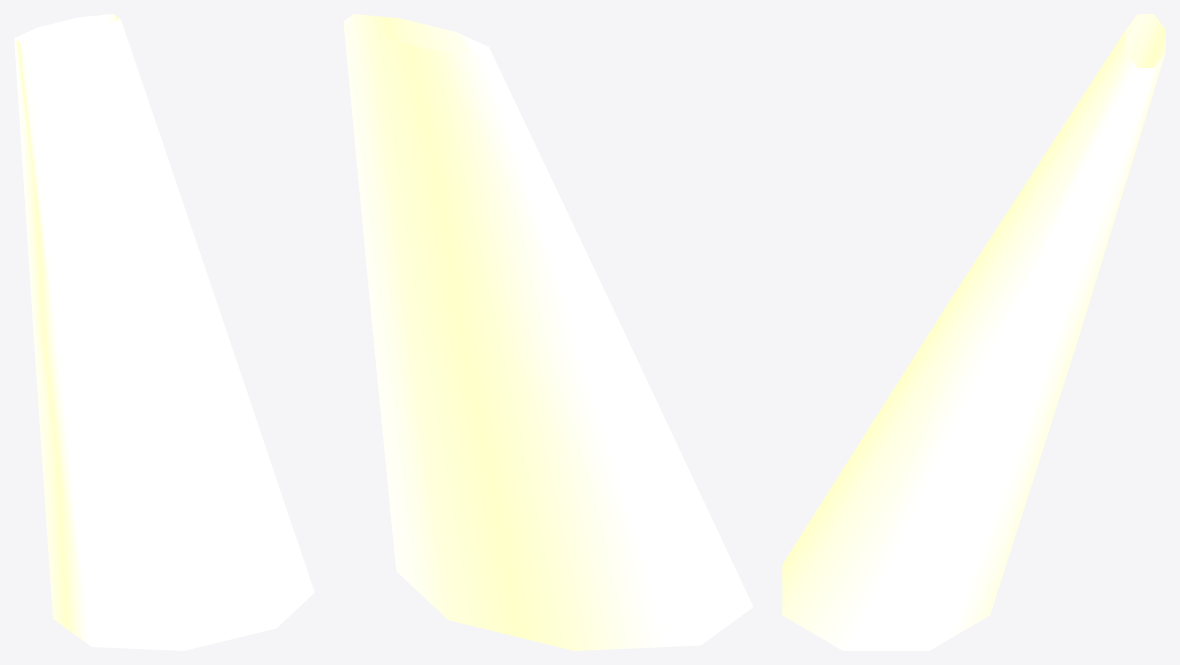
File: b1_shaft.glb
The picture shows the model from 3 angles, left to right: view 1: azimuth 30°, elevation 25°; view 2: azimuth 150°, elevation 25°; view 3: azimuth 270°, elevation 25°; orthographic projection. The views are drawn at different scales.
Parts seen in each view (by area): view 1: b1_shaft; view 2: b1_shaft; view 3: b1_shaft.
Boxes of the visible parts, x1,y1,x2,y2 form: b1_shaft: [14, 14, 314, 650]; b1_shaft: [343, 14, 753, 650]; b1_shaft: [782, 14, 1165, 650].
Bounding box in the file's own units: 3.33 × 7 × 4.43.
